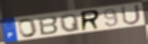9: (103, 8, 120, 28)
B: (38, 15, 60, 36)
O: (18, 18, 38, 39)
Q: (59, 13, 82, 33)
R: (80, 9, 101, 32)
U: (120, 3, 142, 26)
